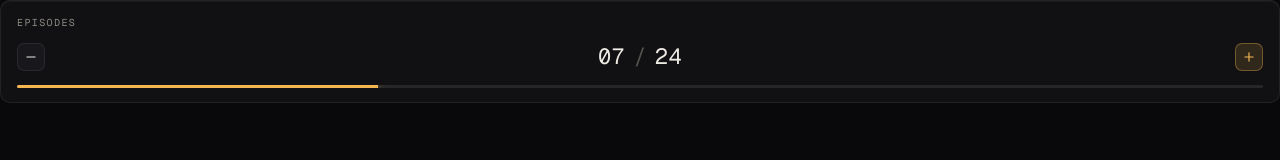
Scenario: ProgressStepper › explains a count past the total, or a total under the count, without saving
The image size is (1280, 160).
Click the button named "Episode you're on" at [612, 56], box x1=594 y1=40 x2=629 y2=73
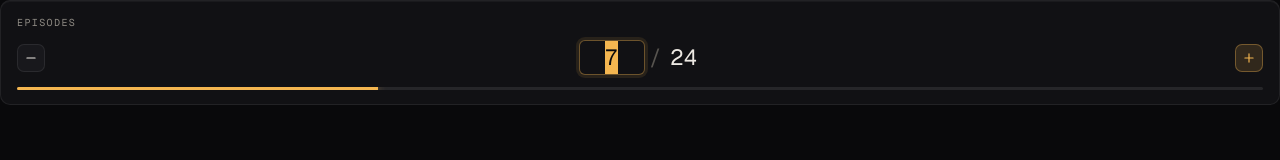
Replace the text in the field with "30" at [612, 58], box x1=578 y1=40 x2=644 y2=75
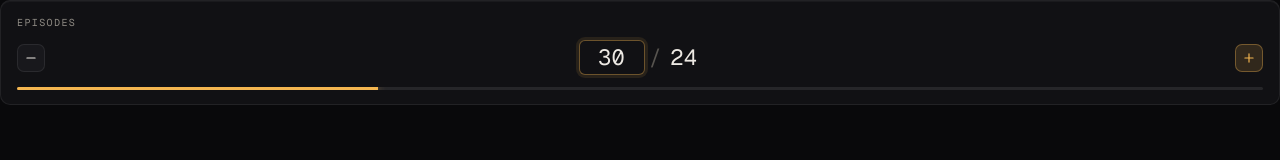
Press Enter in the field, box x1=578 y1=40 x2=644 y2=75
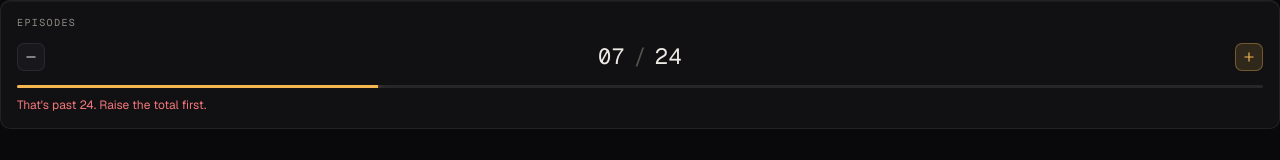
Check: the message reads "That's past 24. Raise the total first.", box x1=17 y1=97 x2=206 y2=113
Click the button named "Total episodes" at [668, 56], box x1=651 y1=40 x2=686 y2=73
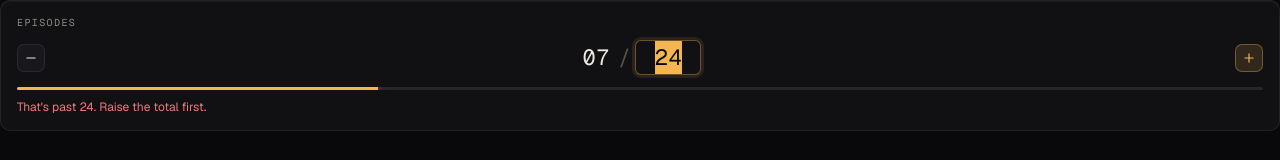
Replace the text in the field with "5" at [668, 58], box x1=636 y1=40 x2=702 y2=75
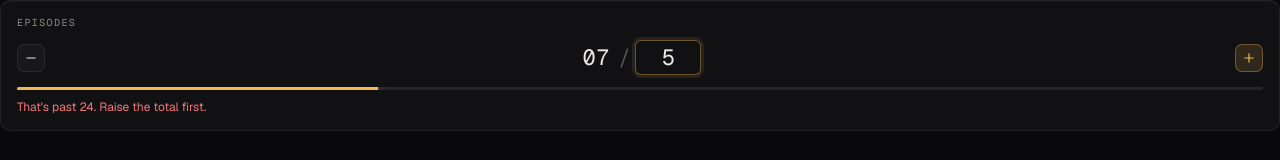
Press Enter in the field, box x1=636 y1=40 x2=702 y2=75
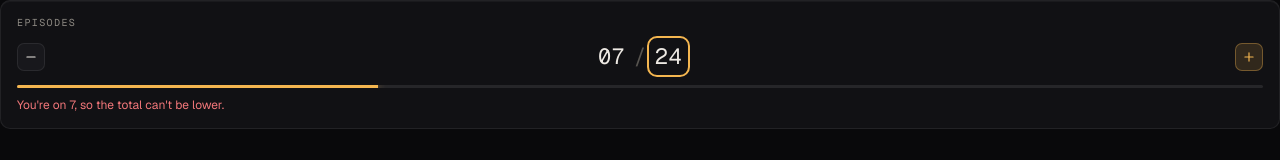
Check: the message reads "You're on 7, so the total can't be lower.", box x1=17 y1=97 x2=224 y2=113
